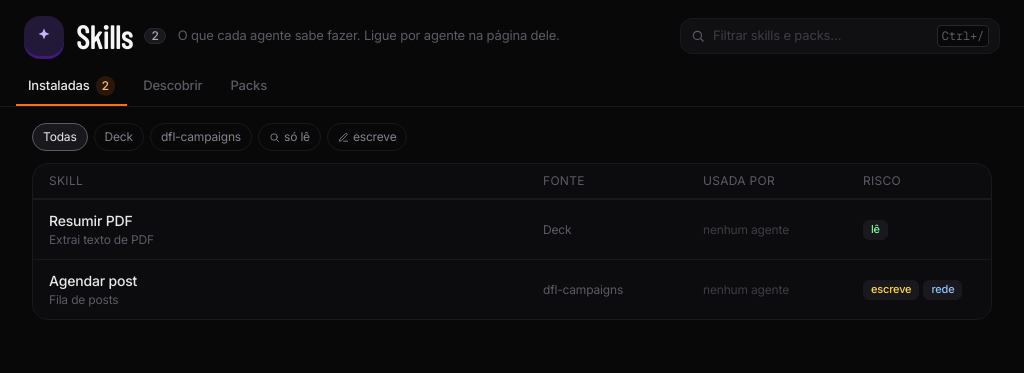
Test: Skills catalog › keeps the local skills and shows a calm locked state when the registry fails on a missing credentials file
Expected: the text "Resumir PDF" is shown, x1=49 y1=212 x2=133 y2=229
Click the tab "Descobrir" at [173, 88], box x1=131 y1=68 x2=214 y2=107
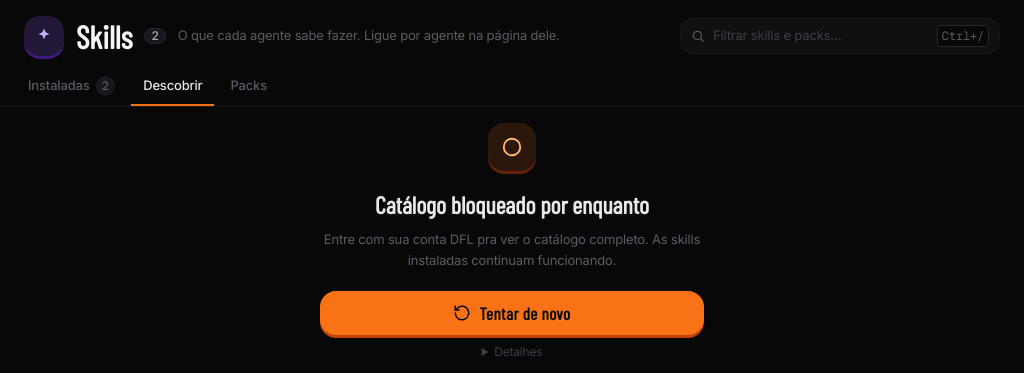
Expected: the heading "Catálogo bloqueado por enquanto" is shown, x1=375 y1=187 x2=649 y2=223
Click the tab "Instaladas 2" at [72, 88], box x1=16 y1=68 x2=127 y2=107
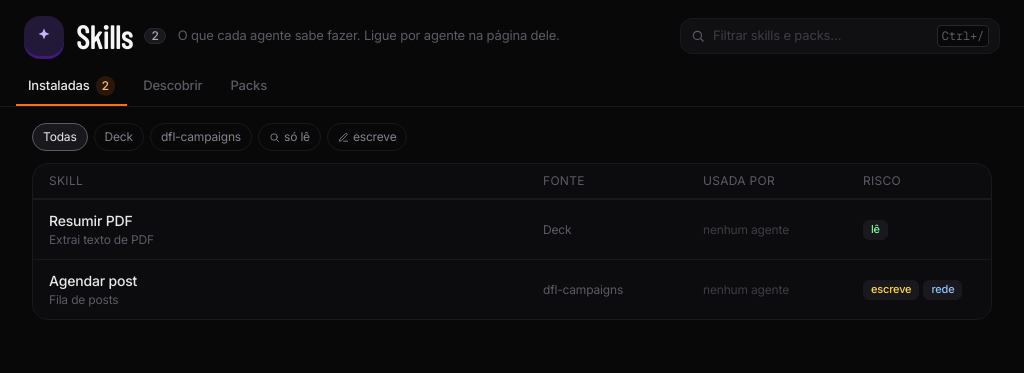
Expected: the text "Resumir PDF" is shown, x1=49 y1=212 x2=133 y2=229
